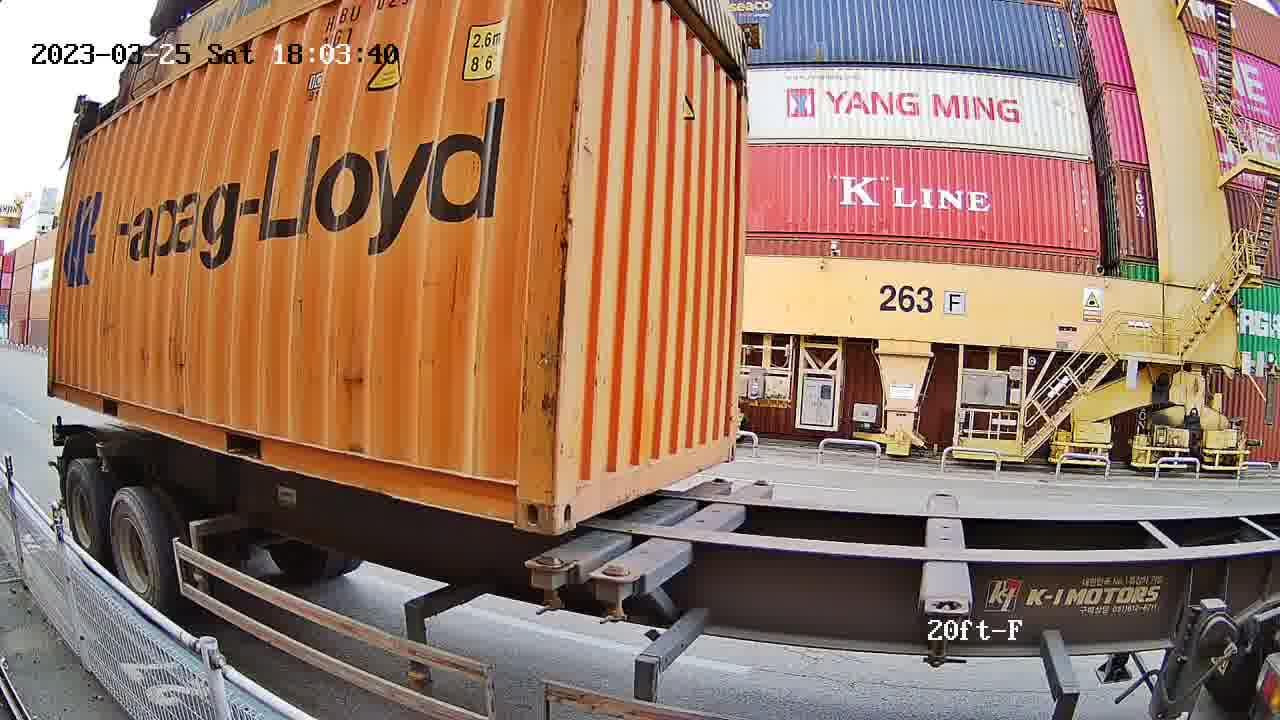Chassis: (594, 482, 771, 590), (527, 481, 731, 571)
Cone: (594, 565, 644, 625), (529, 556, 575, 617)
Hole_L: (555, 464, 599, 536)
Hole_R: (497, 462, 557, 536), (715, 423, 737, 465)
Tire: (110, 491, 162, 610), (67, 459, 105, 561)
